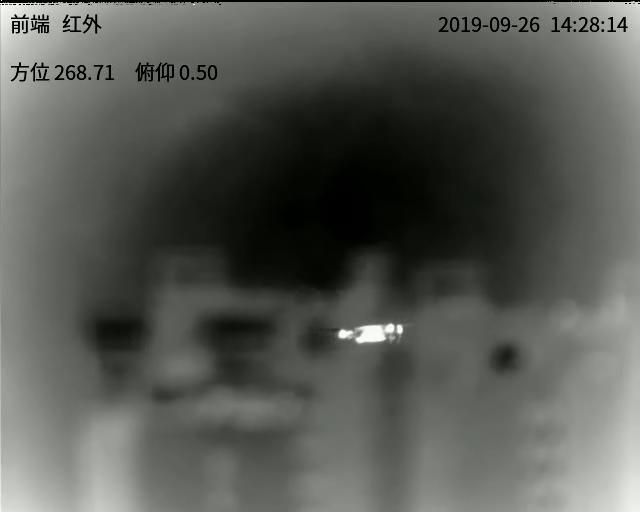uav: (335, 319, 408, 346)
